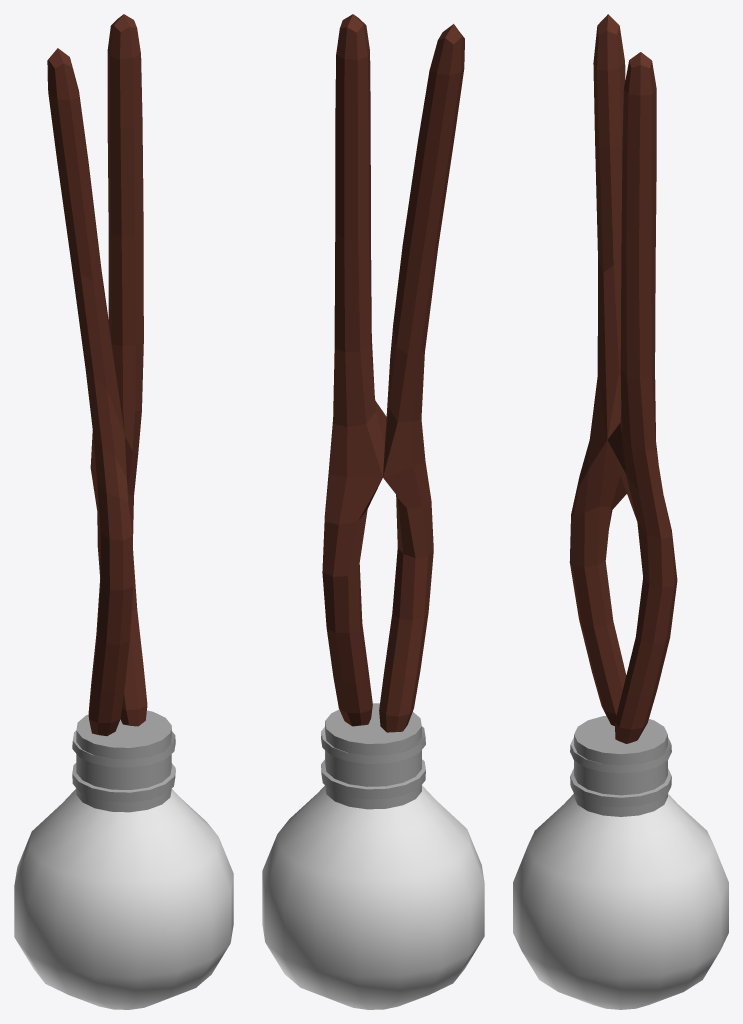
Rendered from LampadaQuebrando.fbx.
3 renders of one model, left to right at view 1: azimuth 30°, elevation 25°; view 2: azimuth 150°, elevation 25°; view 3: azimuth 270°, elevation 25°, orthographic. The views are drawn at different scales.
Parts seen in each view (by area): view 1: Cube.033, Cylinder.007, Cylinder.008; view 2: Cube.033, Cylinder.007, Cylinder.008; view 3: Cube.033, Cylinder.007, Cylinder.008.
Part boxes in pixels (box(x1,y1,x2,y2)): Cube.033: box(47, 14, 147, 736); Cylinder.007: box(14, 788, 233, 1009); Cylinder.008: box(72, 710, 175, 812); Cube.033: box(322, 14, 464, 732); Cylinder.007: box(262, 785, 484, 1009); Cylinder.008: box(321, 703, 425, 809); Cube.033: box(569, 14, 677, 743); Cylinder.007: box(513, 794, 728, 1009); Cylinder.008: box(570, 716, 671, 816).
Size of the model in its own units: 53.04 by 257 by 53.04.
